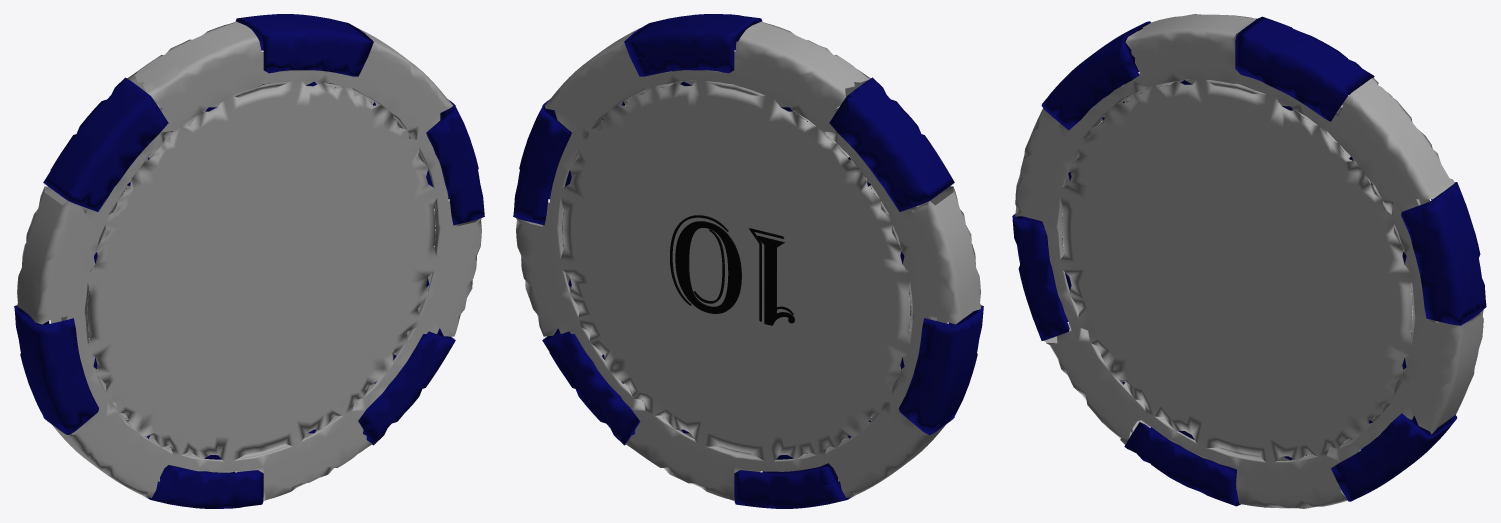
Rendered from Chip-10.obj.
The picture shows the model from 3 angles, left to right: view 1: azimuth 30°, elevation 25°; view 2: azimuth 150°, elevation 25°; view 3: azimuth 330°, elevation 25°; orthographic projection.
Parts seen in each view (by area): view 1: Chip-10; view 2: Chip-10; view 3: Chip-10.
Part boxes in pixels (left/top/right/bottom): Chip-10: left=14, top=14, right=484, bottom=508; Chip-10: left=513, top=14, right=983, bottom=508; Chip-10: left=1012, top=14, right=1486, bottom=508.
Bounding box in the file's own units: 0.9996 × 1 × 0.1098.
